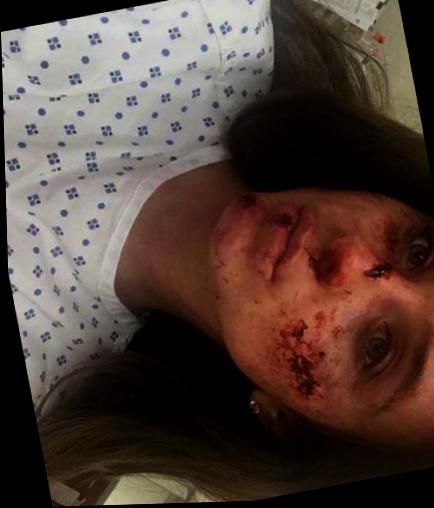Fire: (273, 318, 327, 399), (307, 250, 340, 290), (359, 267, 388, 280), (314, 313, 325, 330)
